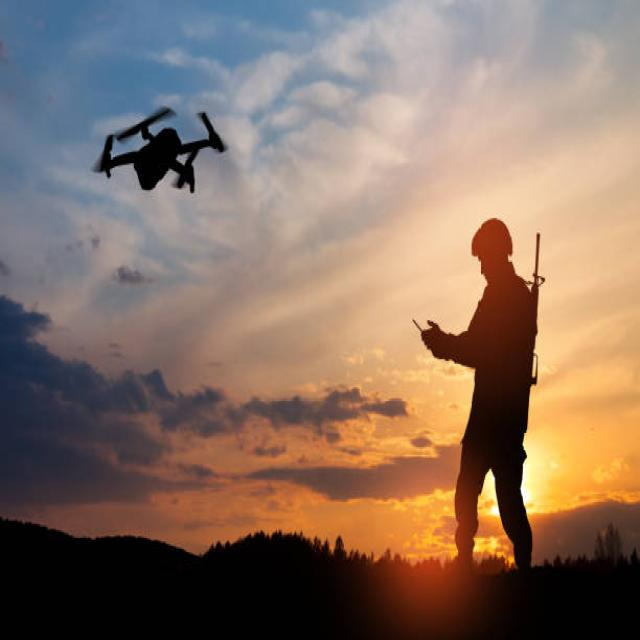drone: (91, 103, 226, 193)
